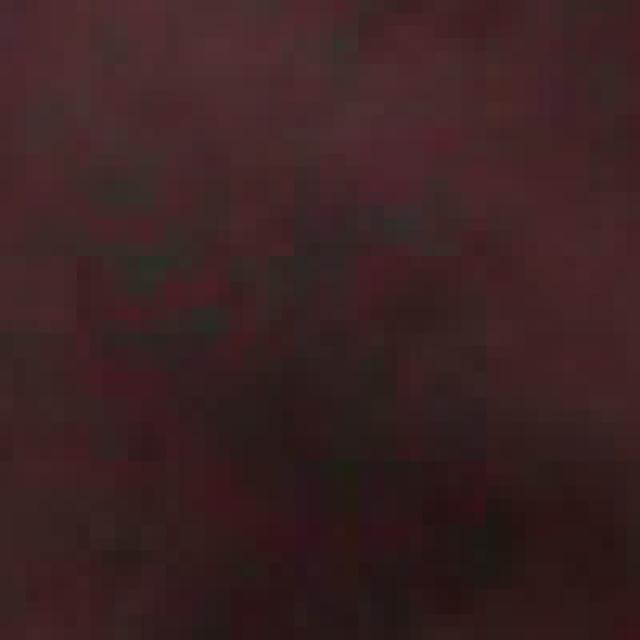fire: (32, 31, 636, 576)
